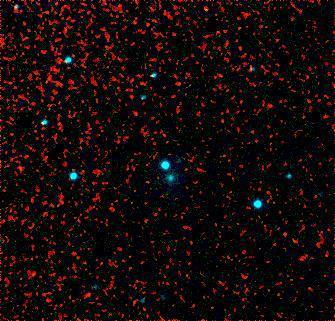star: (188, 0, 218, 25)
